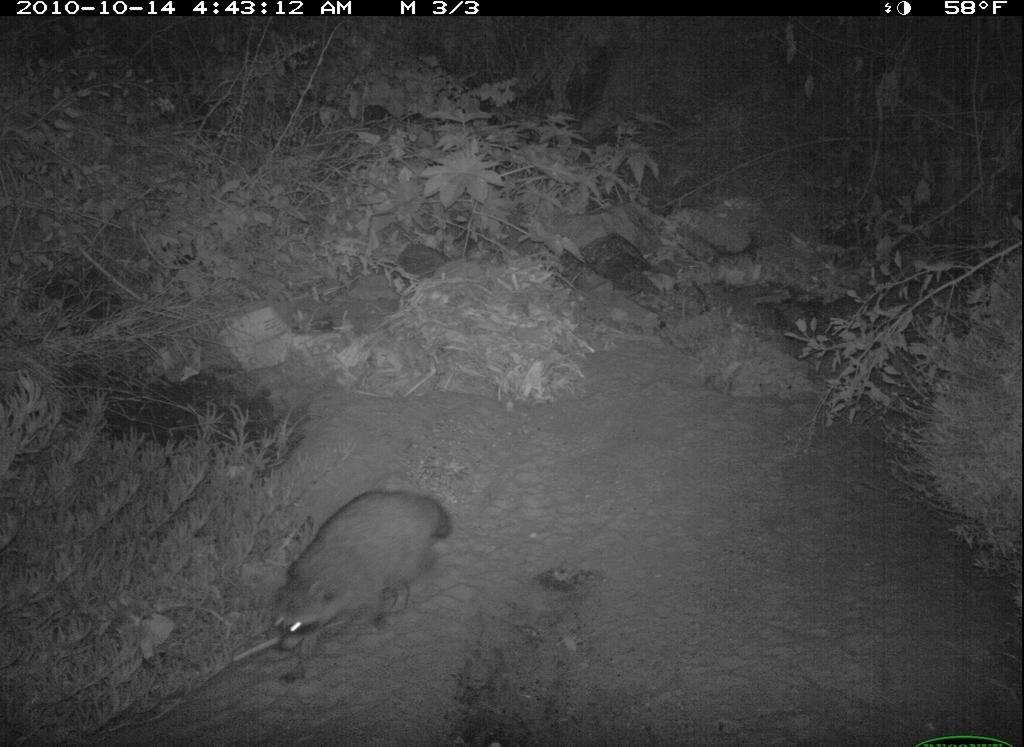raccoon: (262, 482, 464, 675)
